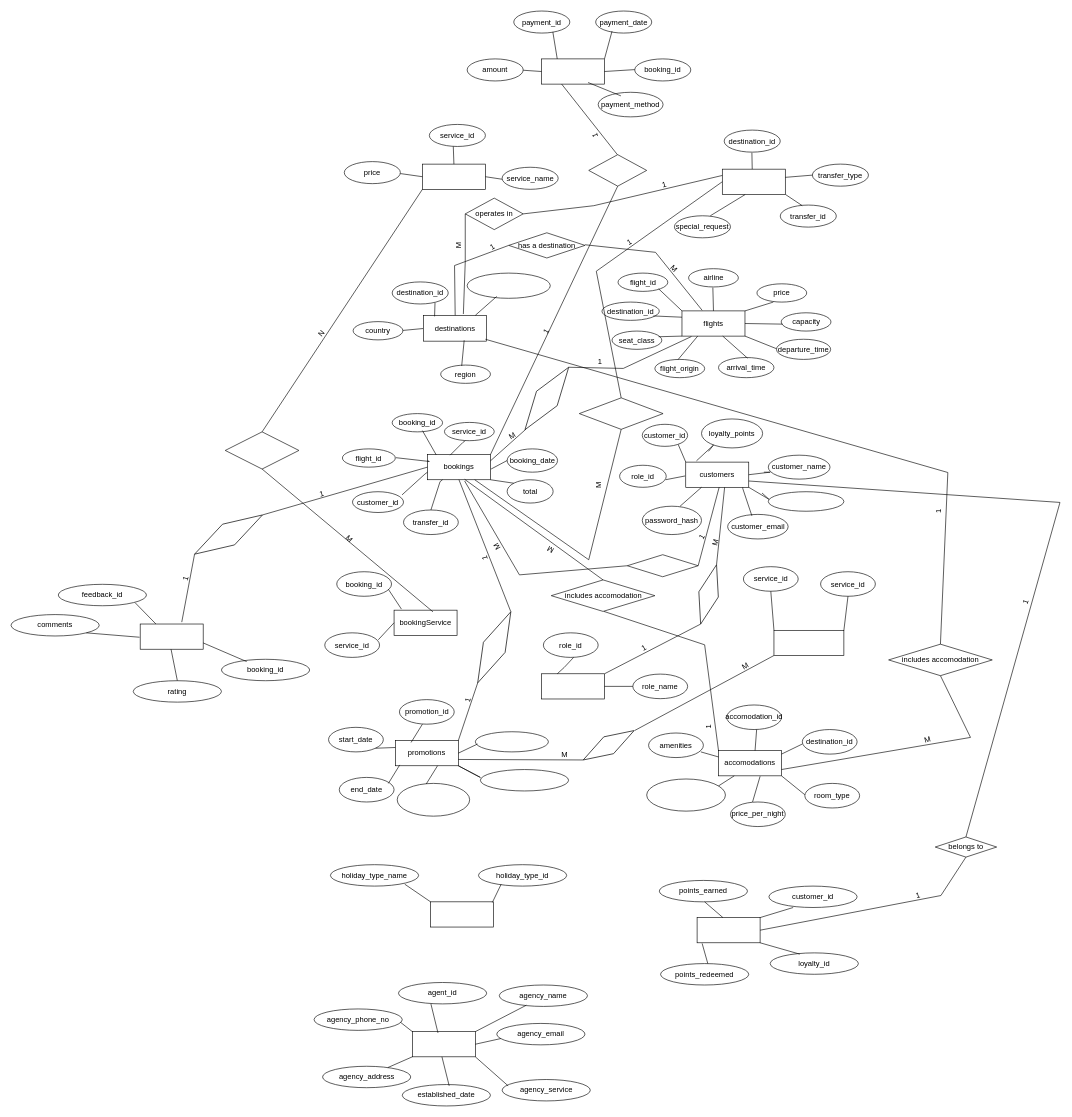
Image size: 1072x1117. Some labels were removed from this diagram. Here are the shapes that lost their labels. From the top down, the centre of each, then its label:
[572,71]: payments
[453,176]: services
[617,170]: made for
[753,181]: taxiTransfers
[508,285]: destination_address
[546,398]: includes flights
[621,413]: includes transfer
[262,450]: includes service
[806,501]: customer_surname
[228,534]: given for
[662,565]: made by
[708,594]: has role
[171,636]: feedback
[494,647]: applied to
[808,643]: bookingPromotions
[572,686]: roles
[511,741]: promotion_name
[608,745]: uses
[433,799]: is_loyalty_exclusive
[524,780]: discount_percentage
[685,794]: accomodation_name
[462,914]: holidayType
[728,930]: customerLoyalty
[443,1044]: agencies
